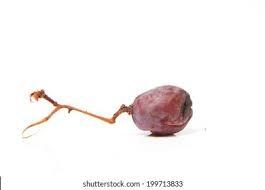Grape Rotten: (22, 84, 194, 139), (113, 84, 193, 136)
